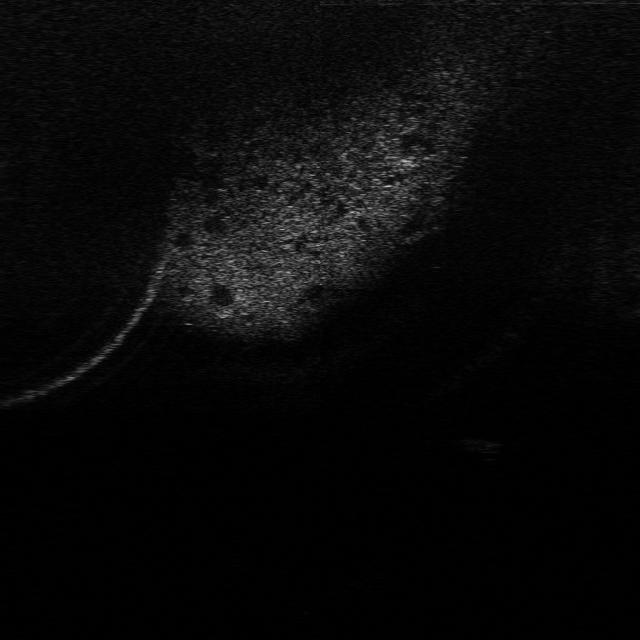cube: (457, 434, 508, 456)
